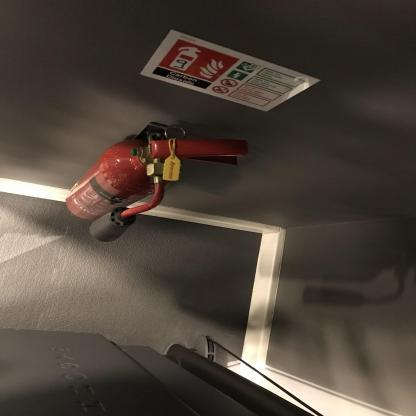Fire Extinguisher: (49, 109, 251, 252)
